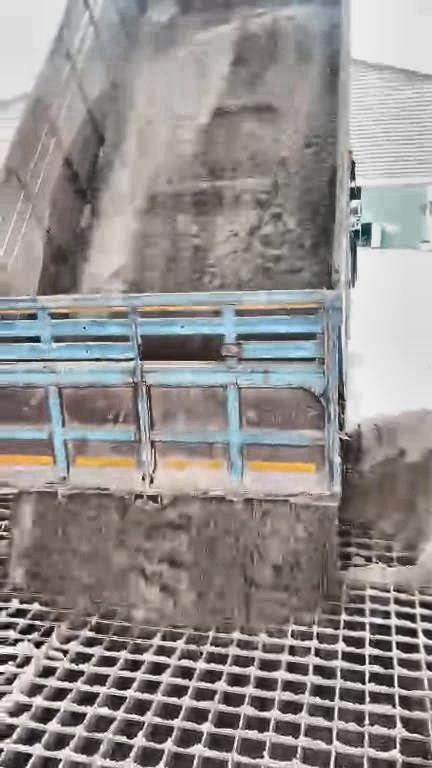sand: (82, 0, 340, 291), (13, 493, 338, 629), (341, 410, 432, 586)
